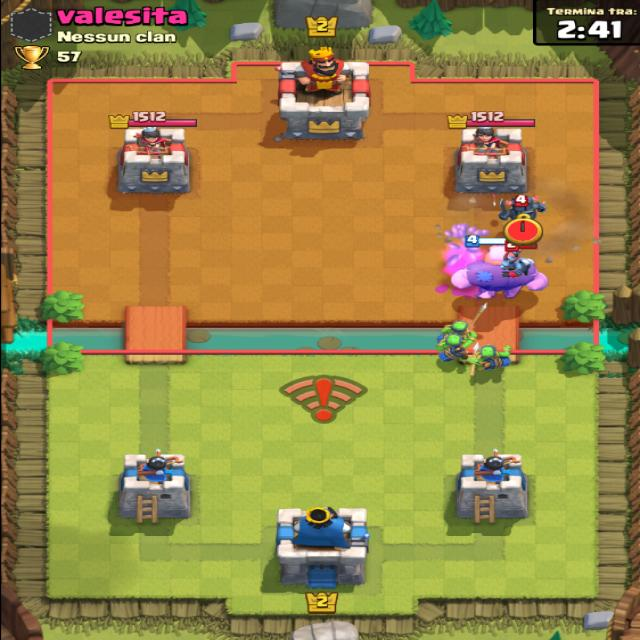Enemy-MiniPEKKA: (491, 189, 547, 229)
Enemy-Minion: (496, 236, 536, 287)
Player-Giant: (455, 240, 542, 302)
Player-SpearGoblin: (438, 324, 483, 364), (472, 342, 518, 374)
